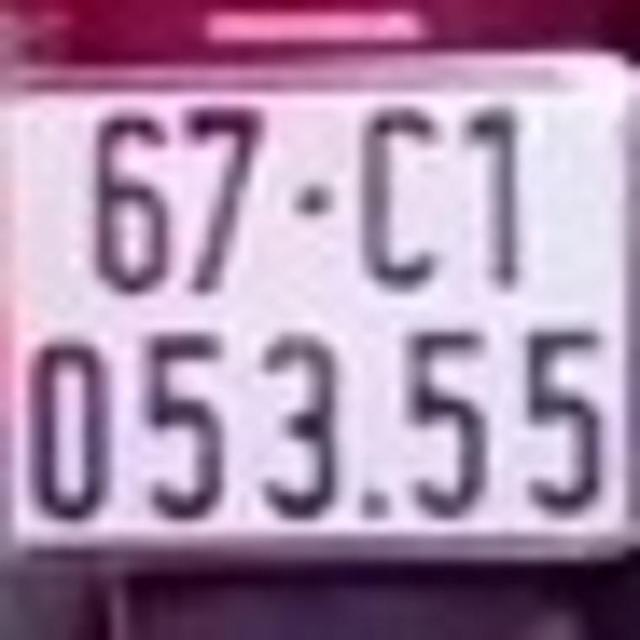0: (27, 331, 112, 523)
1: (462, 99, 526, 291)
3: (258, 326, 339, 522)
5: (402, 324, 492, 521), (142, 325, 228, 522), (522, 322, 608, 516)
6: (92, 104, 172, 296)
7: (182, 100, 266, 297)
C: (356, 101, 446, 289)
